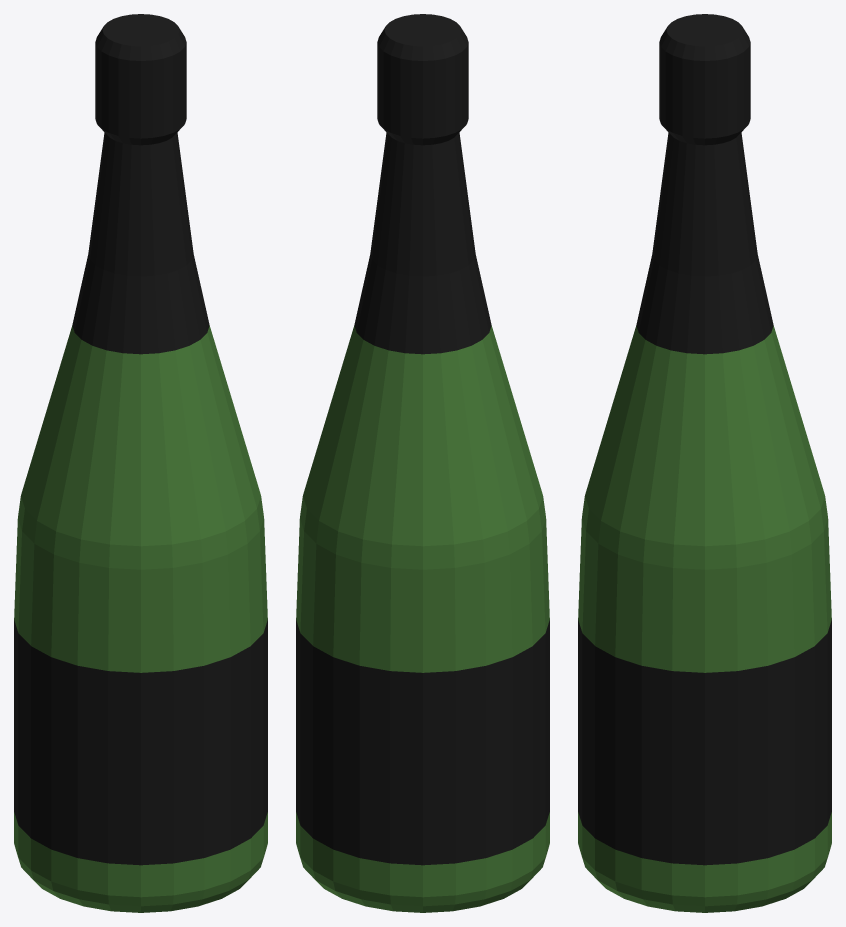
The model's file is Champagne_01.fbx.
The picture shows the model from 3 angles, left to right: view 1: azimuth 30°, elevation 25°; view 2: azimuth 150°, elevation 25°; view 3: azimuth 270°, elevation 25°; orthographic projection.
Visible parts, largest first — view 1: Champagne_01; view 2: Champagne_01; view 3: Champagne_01.
Part boxes in pixels (<box>): Champagne_01: <box>14,14,267,912</box>; Champagne_01: <box>296,14,549,912</box>; Champagne_01: <box>578,14,831,912</box>.
Size of the model in its own units: 9.86 by 35.75 by 9.86.
